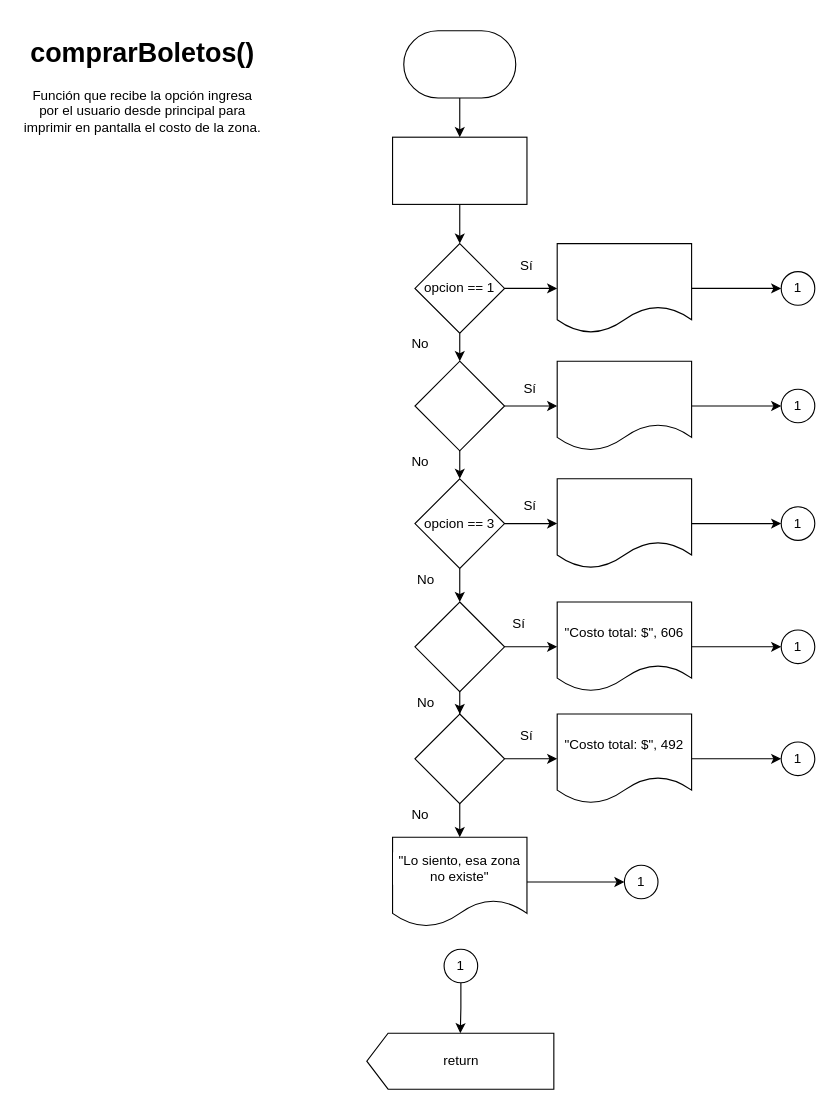
This 834x1109 diagram has some shape labels left out. The centre of each missing label's shape, as x and y in pixels:
"Costo total: $", 1295: (624,287)
"Costo total: $", 719: (624,523)
"Costo total: $", 830: (624,405)
opcion == 2: (459,405)
opcion == 4: (459,646)
opcion == 5: (459,758)
Recibe opcion: (459,170)
